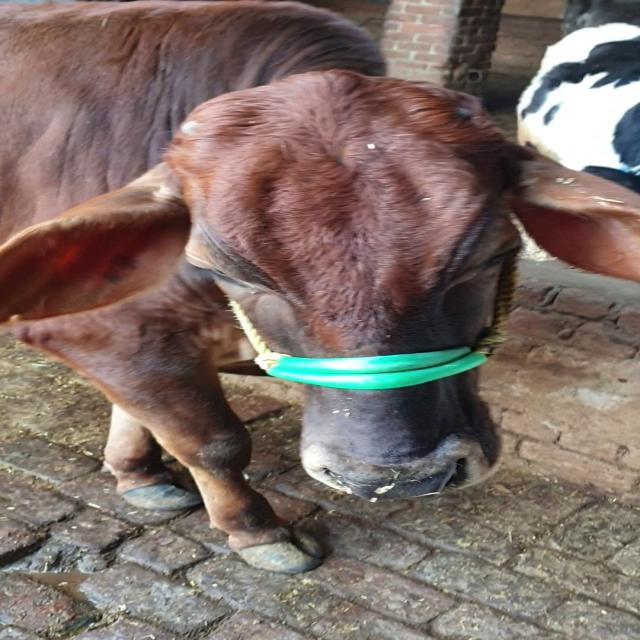cowFace: (167, 73, 597, 506)
